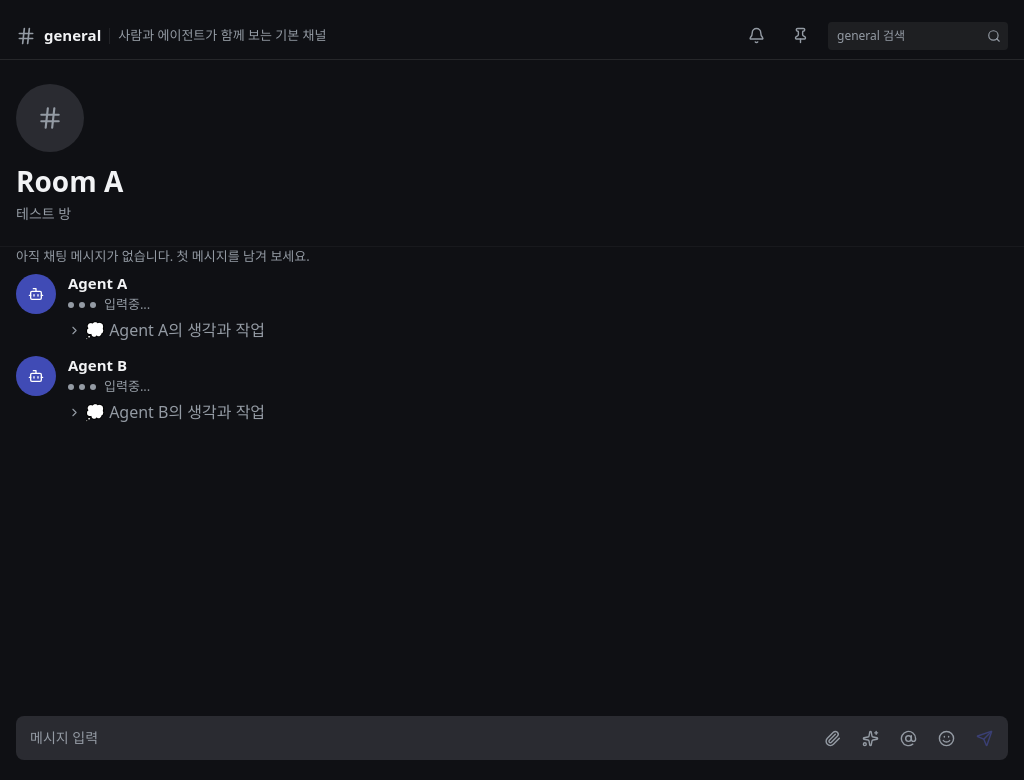
Scenario: LobbyView active provider turn › keeps interleaved provider activity under the matching typing row
Click the button "💭 Agent A의 생각과 작업": (166, 330) top-left (68, 318), bottom-right (265, 342)
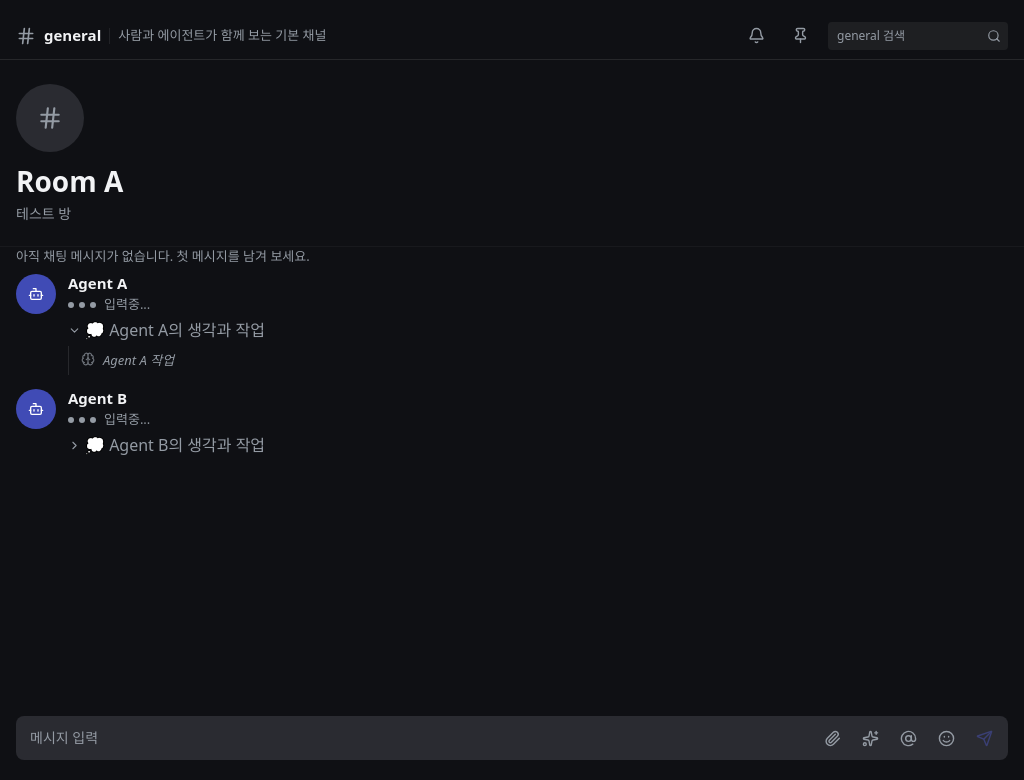
Click the button "💭 Agent B의 생각과 작업": (167, 445) top-left (68, 433), bottom-right (265, 457)
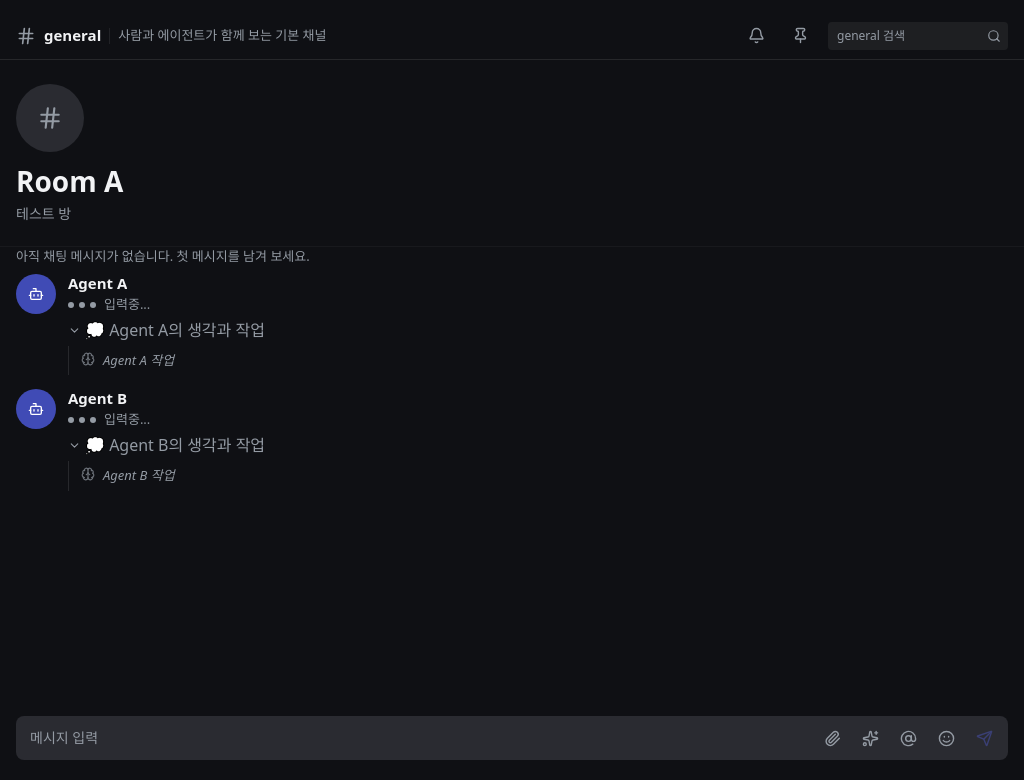
Expected: the button "Agent A의 생각과 작업" does not show "Agent B 작업"
Now the element "Agent A 입력중... 💭 Agent A의 생각과 작업 Agent A 작업" is shown, box top-left (0, 266), bottom-right (1023, 381)
Now the element "Agent B 입력중... 💭 Agent B의 생각과 작업 Agent B 작업" is shown, box top-left (0, 381), bottom-right (1023, 496)
